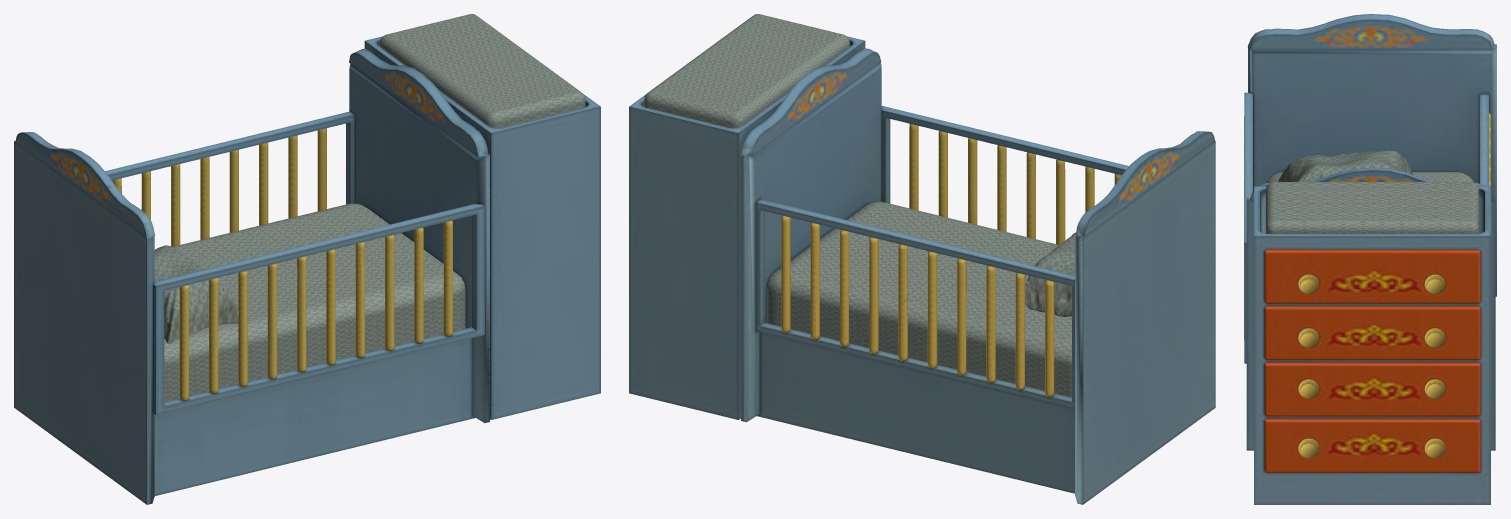
Rendered from baby bed .fbx.
3 views of the same model, side by side, from view 1: azimuth 30°, elevation 25°; view 2: azimuth 150°, elevation 25°; view 3: azimuth 270°, elevation 25° (orthographic). The views are drawn at different scales.
Parts seen in each view (by area): view 1: Object_4, Object_2; view 2: Object_4, Object_2; view 3: Object_4, Object_2.
Part boxes in pixels (x1,y1,x2,y2): Object_4: (14,14,600,504); Object_2: (154,14,585,401); Object_4: (629,14,1215,504); Object_2: (644,14,1076,397); Object_4: (1244,14,1496,504); Object_2: (1265,151,1479,233).
Size of the model in its own units: 170 by 105 by 85.35.
Materials: 3 (3 with a texture image).
